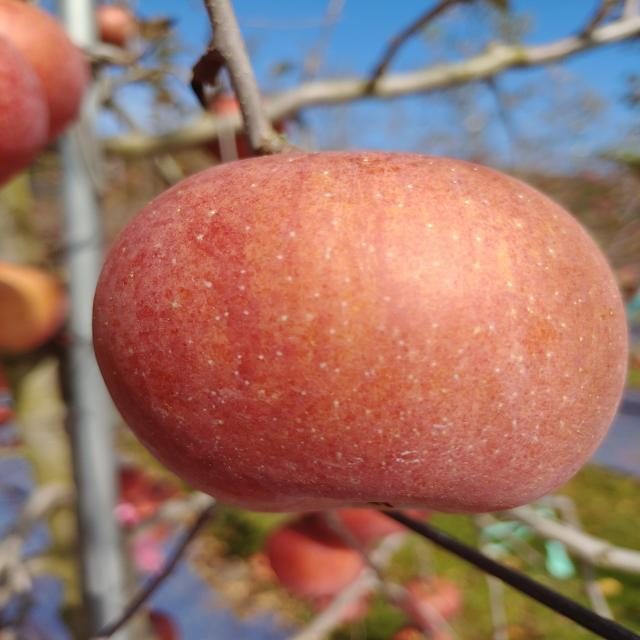fresh: (86, 143, 640, 520)
